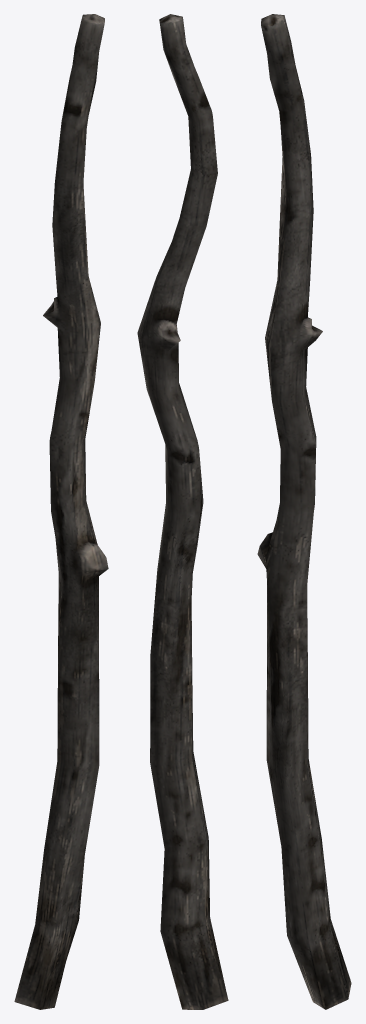
File: SM_Single_Twig_B.fbx
The picture shows the model from 3 angles, left to right: view 1: azimuth 90°, elevation 25°; view 2: azimuth 210°, elevation 25°; view 3: azimuth 270°, elevation 25°; orthographic projection.
Parts seen in each view (by area): view 1: SM_Single_Twig_B_LOD0; view 2: SM_Single_Twig_B_LOD0; view 3: SM_Single_Twig_B_LOD0.
Part boxes in pixels (left/top/right/bottom): SM_Single_Twig_B_LOD0: left=14, top=14, right=108, bottom=1009; SM_Single_Twig_B_LOD0: left=137, top=14, right=228, bottom=1009; SM_Single_Twig_B_LOD0: left=257, top=14, right=351, bottom=1009.
Size of the model in its own units: 9.81 by 11.76 by 136.
Materials: 1 (1 with a texture image).
